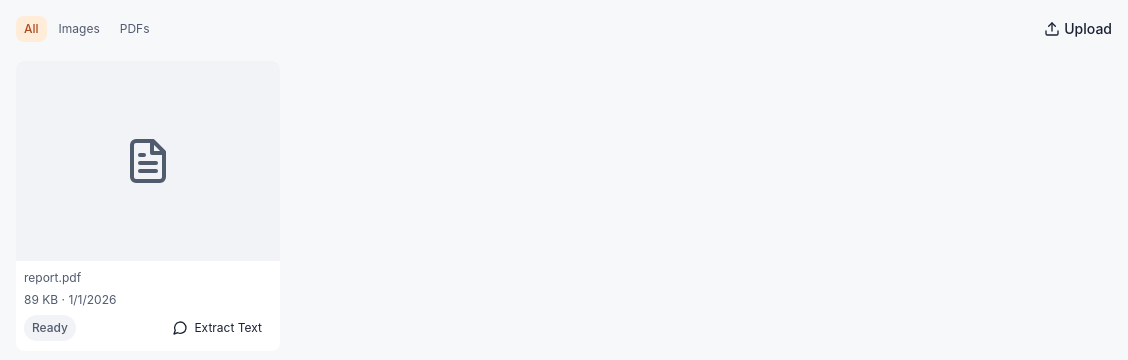
it: OCRTab › shows compact Cached badge when backend returns cached=true
expect the text "report.pdf" is shown: met, box [24, 270, 81, 285]
Step 1. Click the button "Extract Text" → (217, 328), box [162, 313, 272, 343]
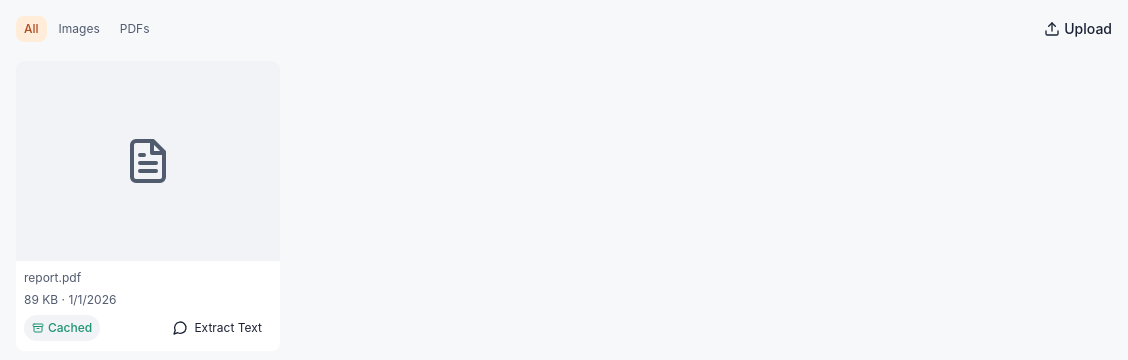
expect the text "Cached" is shown: met, box [24, 315, 100, 341]
